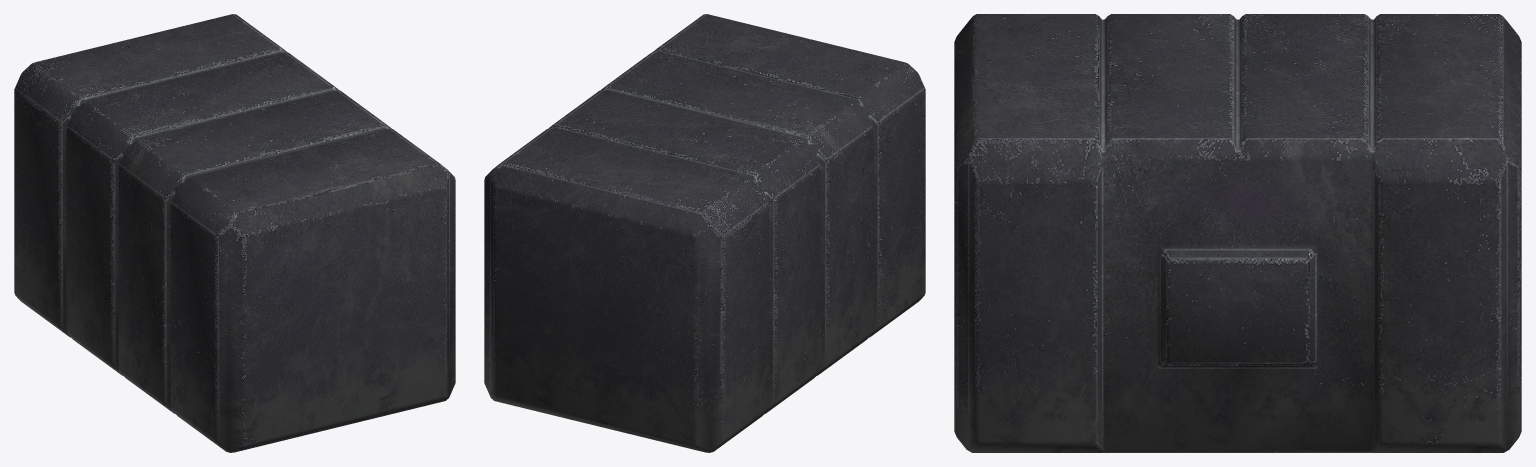
File: blackbox_02.gltf
3 views of the same model, side by side, from view 1: azimuth 30°, elevation 25°; view 2: azimuth 150°, elevation 25°; view 3: azimuth 270°, elevation 25° (orthographic). The views are drawn at different scales.
Parts seen in each view (by area): view 1: blackbox; view 2: blackbox; view 3: blackbox.
Boxes of the visible parts, <box> form: blackbox: <box>14,14,455,452</box>; blackbox: <box>484,14,925,452</box>; blackbox: <box>954,14,1521,452</box>.
Size of the model in its own units: 1.11 by 1.04 by 1.73.
1 material, 1 textured.
